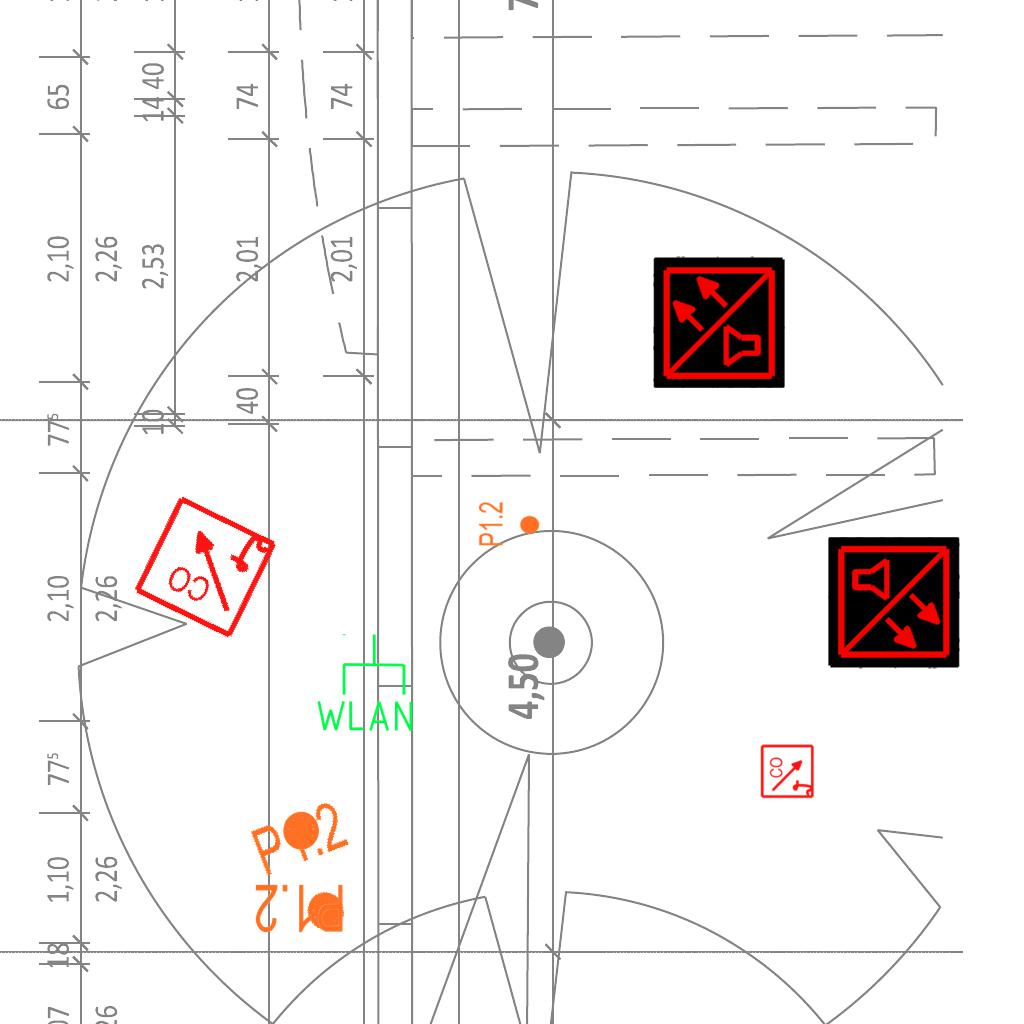Downlight_LED_Einbauleuchten_Flur: (246, 795, 379, 949), (253, 808, 346, 936), (477, 501, 541, 547)
OKW_Multisensormelder_(Kombination_optischer_Rauch-Kahlenmonoxid_Waerme-Melder): (653, 256, 785, 388), (828, 537, 960, 669)
ROA_Rauchmelder_optisch_mit_Signalgeber_(Sockelsirene): (129, 489, 282, 642), (760, 743, 816, 799)
WLAN: (312, 631, 417, 735)
